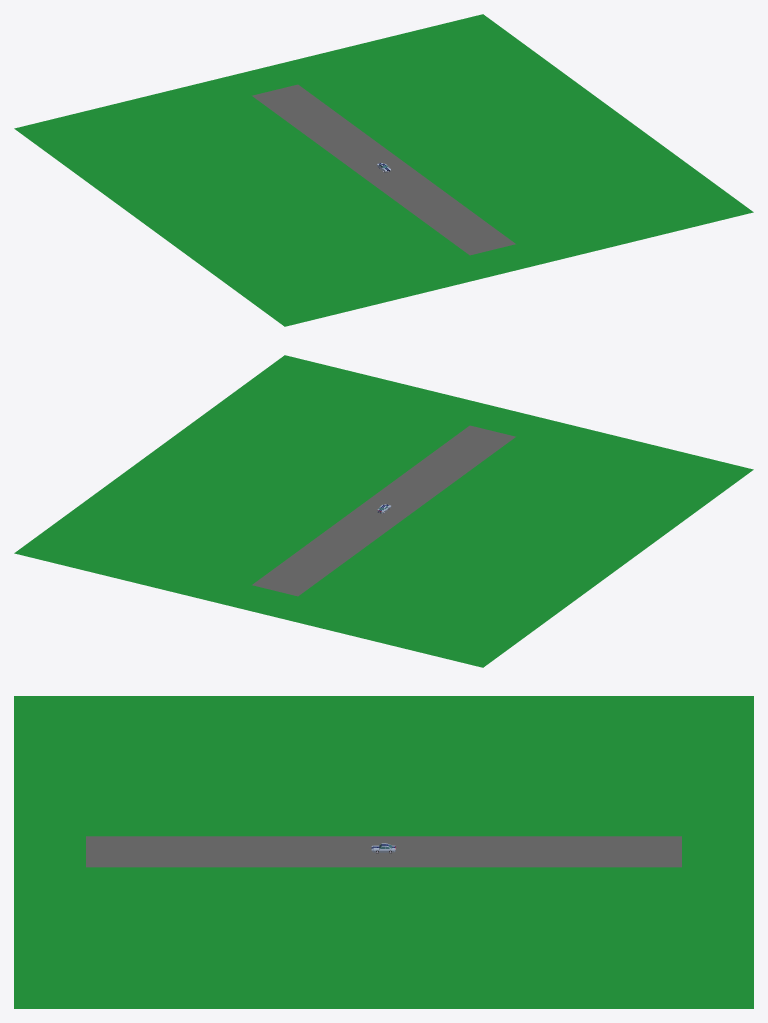
File: muscle2.gltf
3 renders of one model, top to bottom at view 1: azimuth 30°, elevation 25°; view 2: azimuth 150°, elevation 25°; view 3: azimuth 270°, elevation 25°, orthographic. The views are drawn at different scales.
Parts seen in each view (by area): view 1: grassplane, road; view 2: grassplane, road; view 3: grassplane, road.
Part boxes in pixels (box(x1,y1,x2,y2)): grassplane: box(14, 14, 753, 326); road: box(252, 84, 515, 255); grassplane: box(14, 355, 753, 667); road: box(252, 425, 515, 596); grassplane: box(14, 696, 753, 1008); road: box(86, 836, 681, 867).
Bounding box in the file's own units: 183 × 2.1 × 183.
